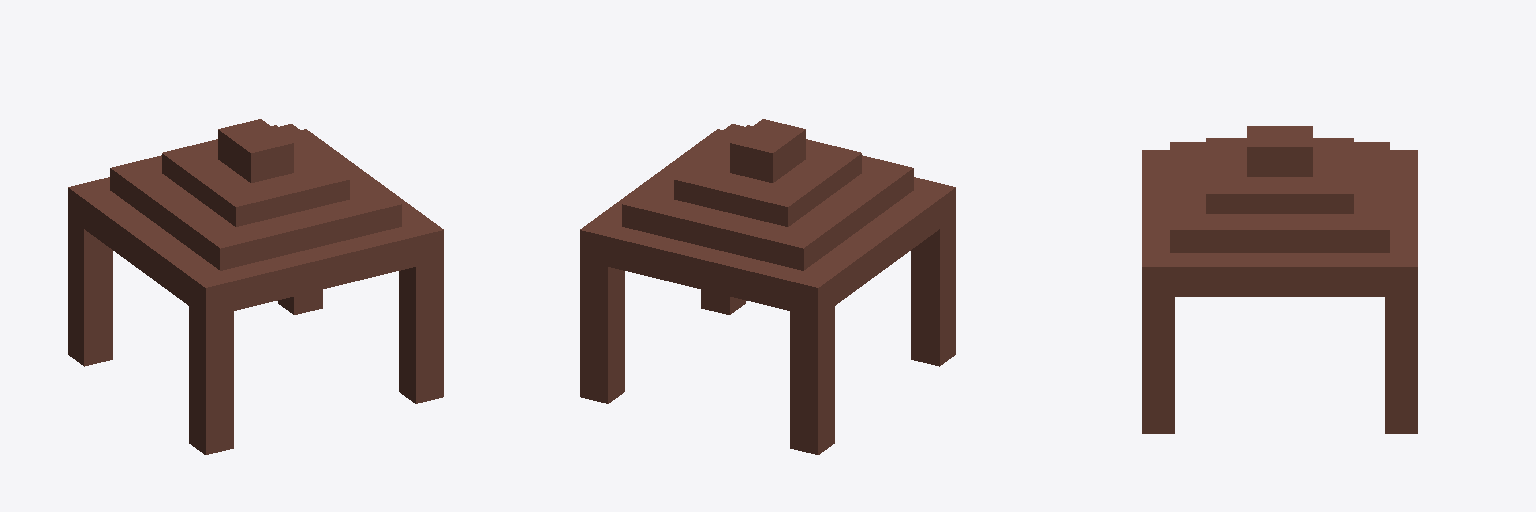
3 renders of one model, left to right at view 1: azimuth 30°, elevation 25°; view 2: azimuth 150°, elevation 25°; view 3: azimuth 270°, elevation 25°, orthographic.
Parts seen in each view (by area): view 1: object 1; view 2: object 1; view 3: object 1.
Boxes of the visible parts, <box> form: object 1: <box>68,119,443,454</box>; object 1: <box>580,119,955,454</box>; object 1: <box>1142,126,1417,433</box>.
Size of the model in its own units: 10 by 9.6 by 10.
1 materials, 1 textured.